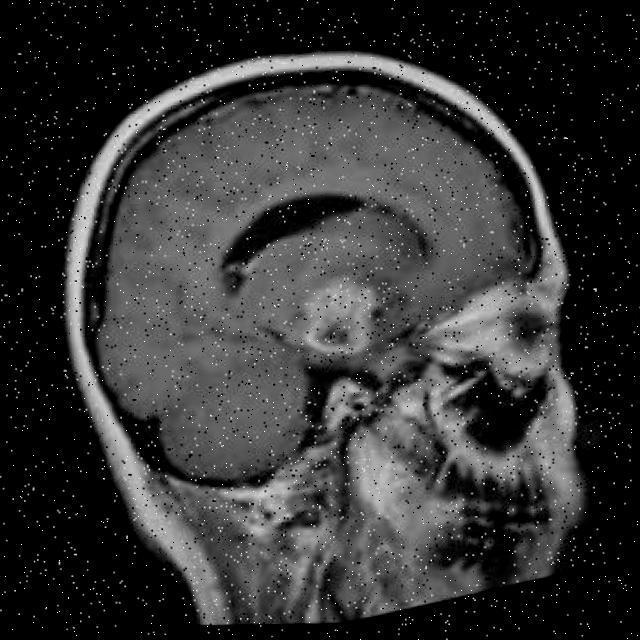EMCI: (157, 243, 426, 462)
